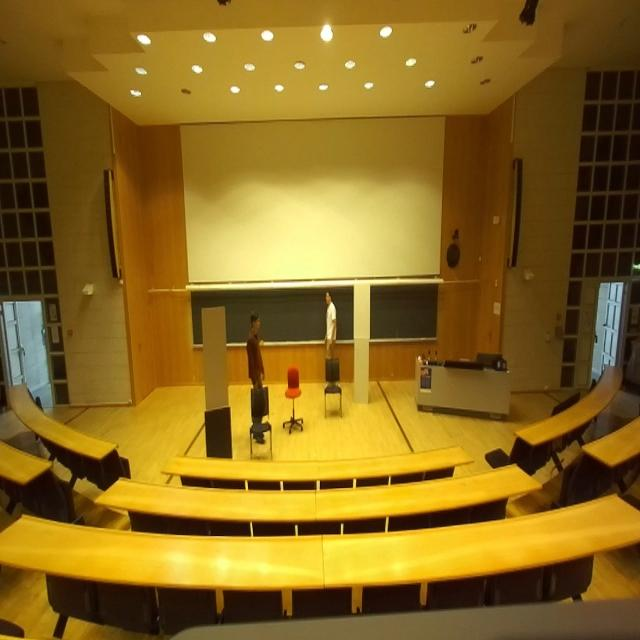person: (247, 310, 265, 445), (323, 291, 337, 386)
